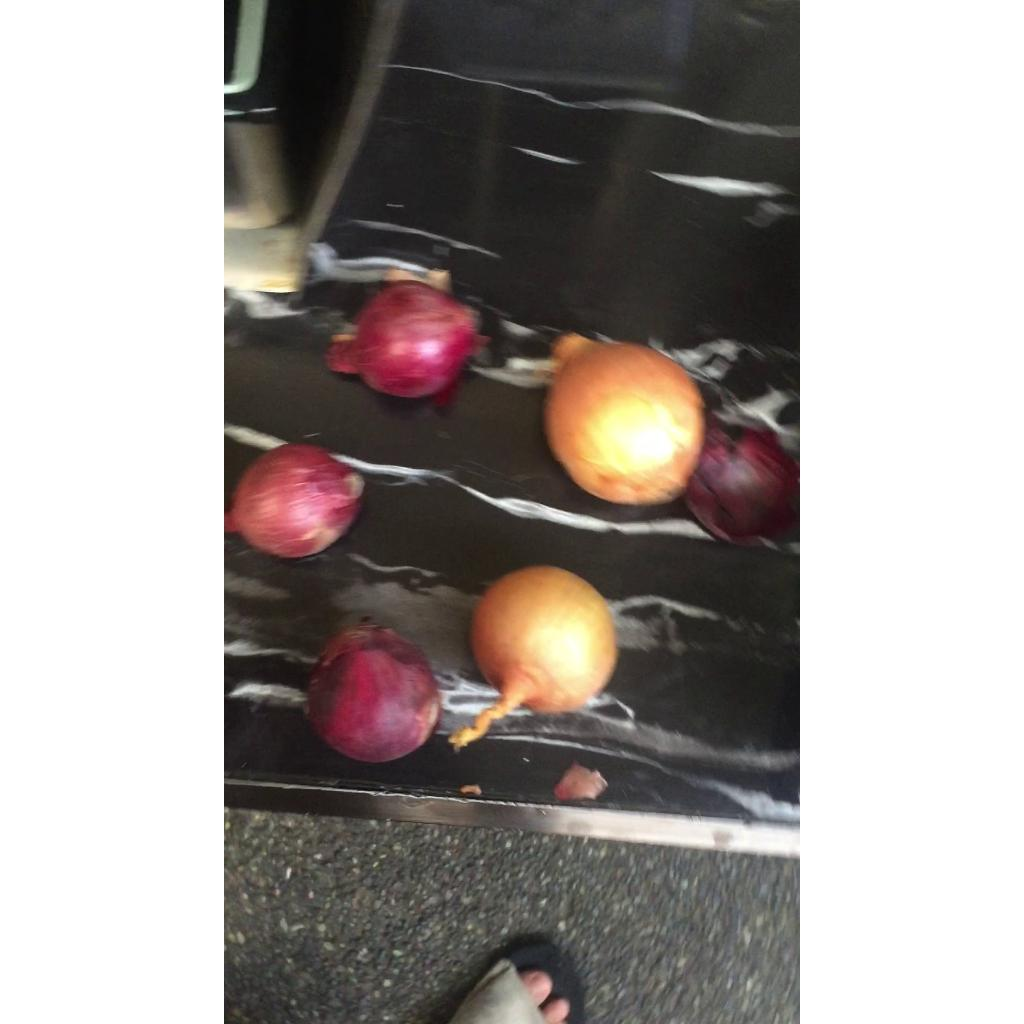Onion: (448, 565, 620, 747), (542, 331, 706, 507), (305, 625, 443, 763), (326, 283, 478, 398), (224, 443, 365, 558)
